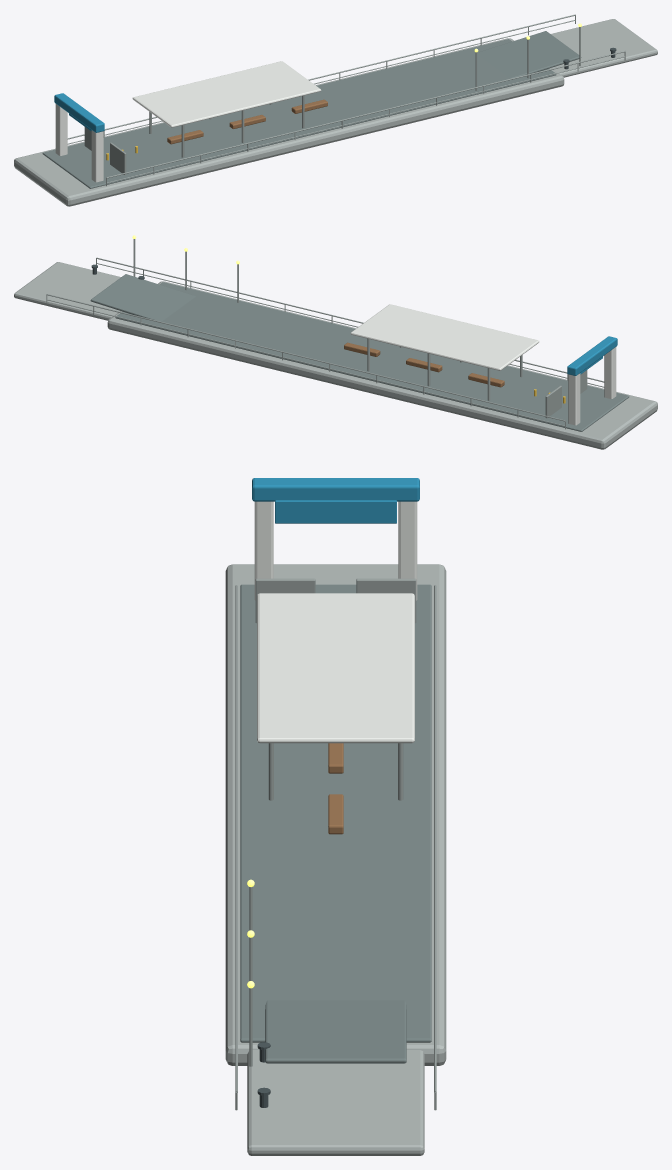
File: ferry-qigan-pier-lod2.glb
3 renders of one model, top to bottom at view 1: azimuth 30°, elevation 25°; view 2: azimuth 150°, elevation 25°; view 3: azimuth 270°, elevation 25°, orthographic. The views are drawn at different scales.
Parts seen in each view (by area): view 1: Qigan deck paving.001, Qigan shore platform.001, Qigan waiting canopy roof.001, Qigan floating pontoon.001, Qigan boarding ramp.001, Qigan riverside rail.004, Qigan riverside rail.005, Qigan entrance lintel.001, Qigan riverside rail.006, Qigan entrance column.002, Qigan entrance column.003, Qigan riverside rail.007 (+1 smaller); view 2: Qigan deck paving.001, Qigan shore platform.001, Qigan waiting canopy roof.001, Qigan floating pontoon.001, Qigan boarding ramp.001, Qigan riverside rail.006, Qigan riverside rail.007, Qigan entrance lintel.001, Qigan riverside rail.004, Qigan entrance column.003, Qigan entrance column.002, Qigan riverside rail.005 (+1 smaller); view 3: Qigan deck paving.001, Qigan waiting canopy roof.001, Qigan shore platform.001, Qigan floating pontoon.001, Qigan boarding ramp.001, Qigan entrance lintel.001, Qigan terminal sign panel.001, Qigan entrance column.002, Qigan entrance column.003, Qigan riverside rail.004, Qigan riverside rail.006, Qigan pedestrian gate (+1 smaller).
Boxes of the visible parts, <box> form: Qigan deck paving.001: <box>42,39,556,188</box>; Qigan shore platform.001: <box>14,38,564,206</box>; Qigan waiting canopy roof.001: <box>132,61,321,127</box>; Qigan floating pontoon.001: <box>551,19,657,77</box>; Qigan boarding ramp.001: <box>477,31,581,78</box>; Qigan riverside rail.004: <box>106,51,625,178</box>; Qigan riverside rail.005: <box>107,56,624,183</box>; Qigan entrance lintel.001: <box>54,93,104,132</box>; Qigan riverside rail.006: <box>67,14,575,139</box>; Qigan entrance column.002: <box>91,130,103,182</box>; Qigan entrance column.003: <box>55,104,67,155</box>; Qigan riverside rail.007: <box>67,20,575,144</box>; Qigan deck paving.001: <box>115,282,629,431</box>; Qigan shore platform.001: <box>107,281,657,449</box>; Qigan waiting canopy roof.001: <box>350,304,539,370</box>; Qigan floating pontoon.001: <box>14,262,120,320</box>; Qigan boarding ramp.001: <box>90,274,195,321</box>; Qigan riverside rail.006: <box>46,294,565,421</box>; Qigan riverside rail.007: <box>47,299,564,426</box>; Qigan entrance lintel.001: <box>567,336,617,375</box>; Qigan riverside rail.004: <box>96,257,604,382</box>; Qigan entrance column.003: <box>568,373,580,425</box>; Qigan entrance column.002: <box>604,347,616,398</box>; Qigan riverside rail.005: <box>96,263,604,387</box>; Qigan deck paving.001: <box>240,584,431,1042</box>; Qigan waiting canopy roof.001: <box>257,593,414,743</box>; Qigan shore platform.001: <box>225,564,446,1065</box>; Qigan floating pontoon.001: <box>247,1050,424,1155</box>; Qigan boarding ramp.001: <box>265,1000,406,1063</box>; Qigan entrance lintel.001: <box>252,478,419,501</box>; Qigan terminal sign panel.001: <box>275,500,396,523</box>; Qigan entrance column.002: <box>254,501,273,600</box>; Qigan entrance column.003: <box>398,501,417,600</box>; Qigan riverside rail.004: <box>235,585,237,1092</box>; Qigan riverside rail.006: <box>434,585,436,1092</box>; Qigan pedestrian gate: <box>255,578,315,623</box>.
Size of the model in its own units: 57.5 by 6.42 by 9.2.
